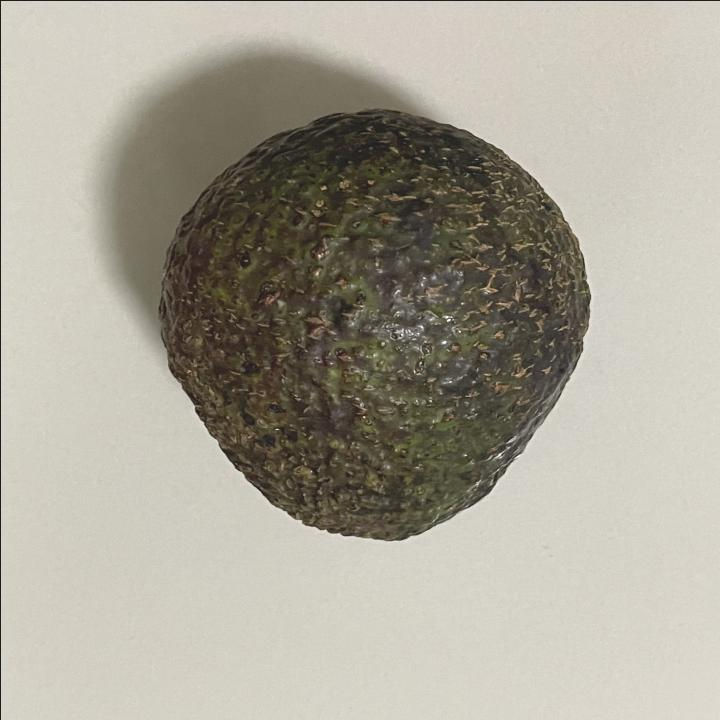Level1: (138, 90, 609, 556)
